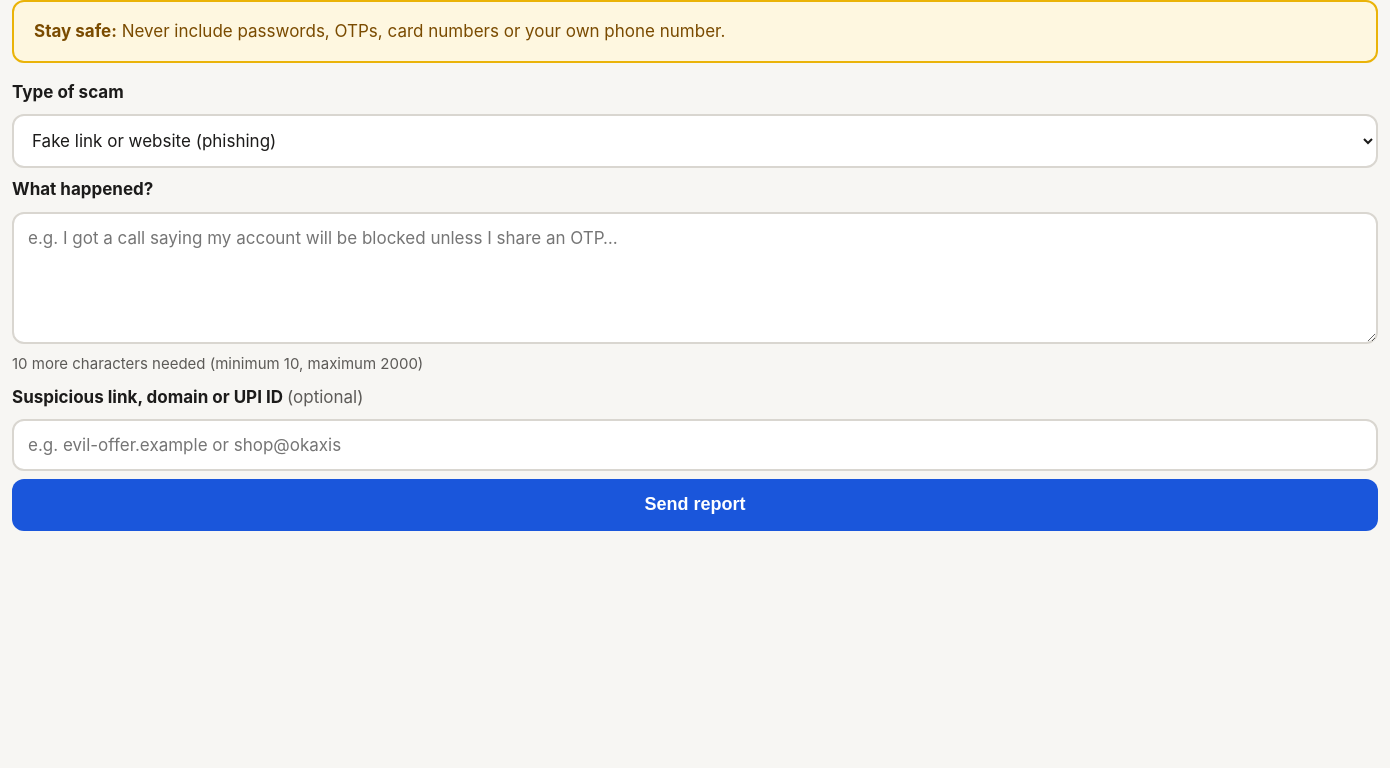
ReportForm validation › shows the backend thanks message and clears the form on success
Replace the text in the text box labelled "What happened?" with "Someone called pretending to be the bank manager today.". click: x=695, y=278
box: [12,212,1378,344]
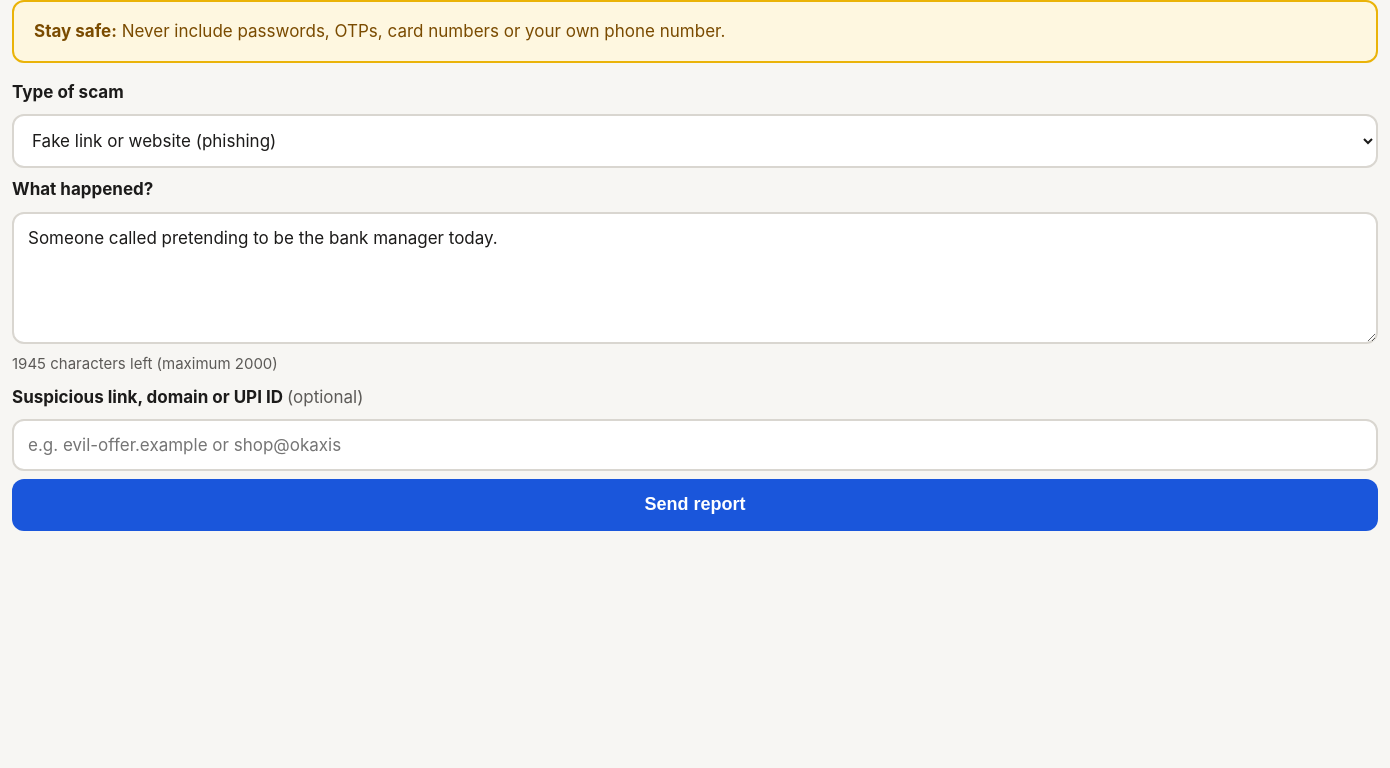
Type "evil-offer.example" into the field labelled "Suspicious link, domain or UPI ID (optional)". click: x=695, y=445
box: [12,419,1378,471]
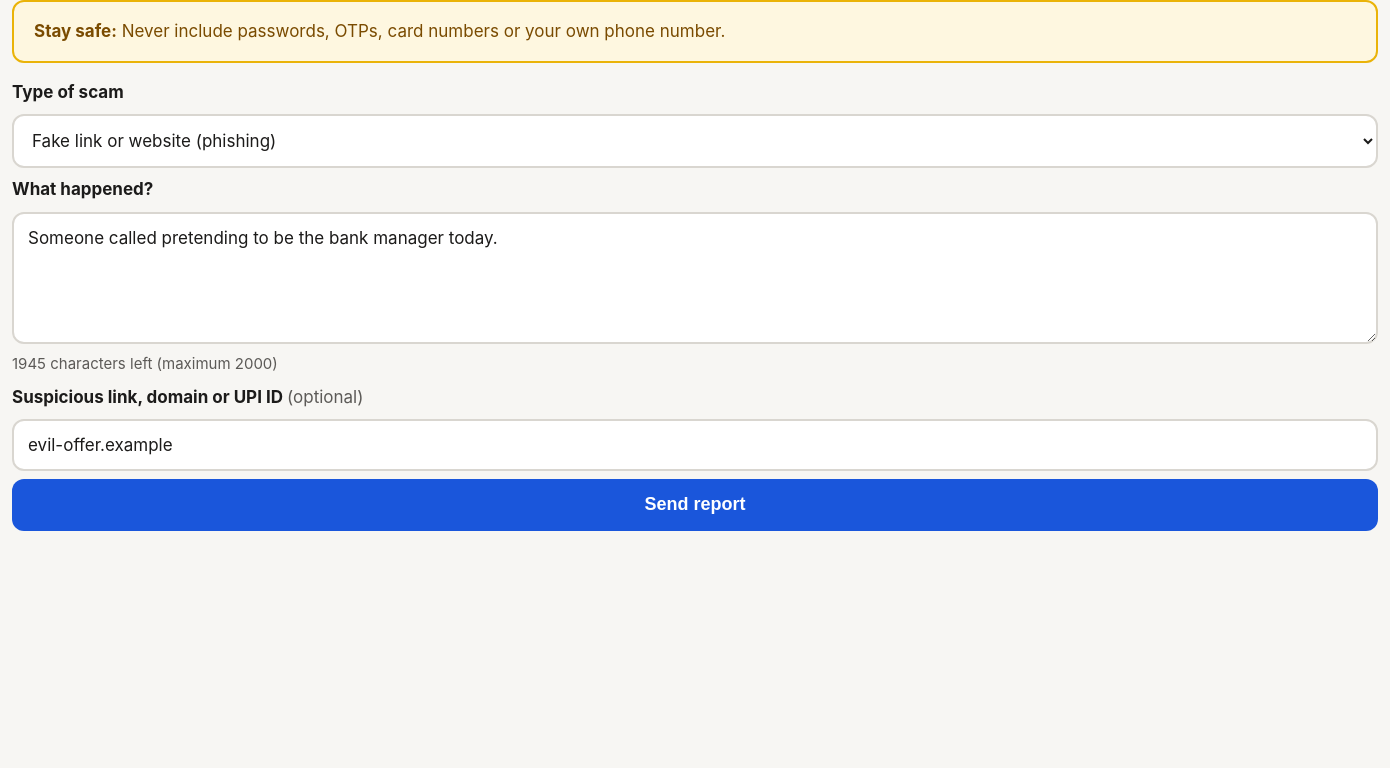
Click the button "Send report". click: x=695, y=505
box: [12,479,1378,531]
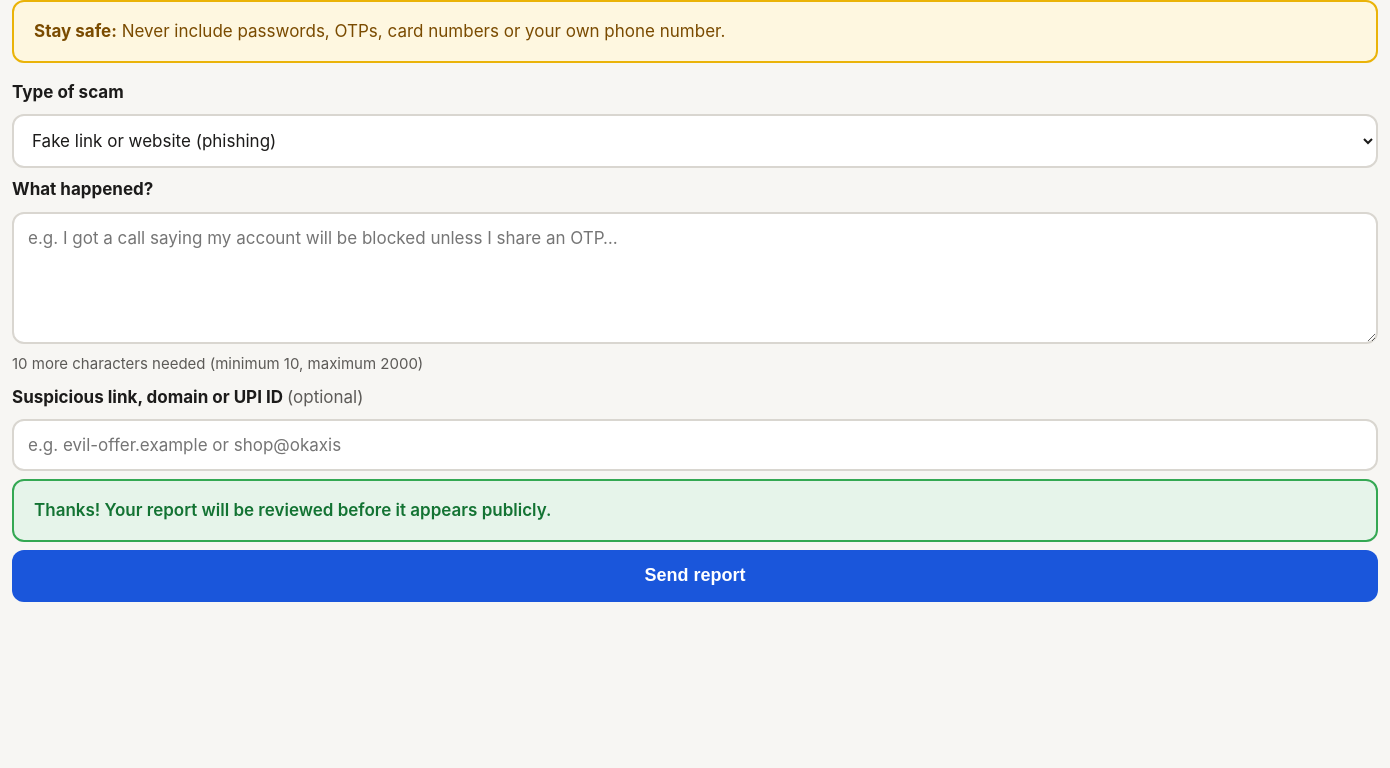
Now the text "Thanks! Your report will be reviewed before it appears publicly." is shown, box [12,479,1378,542]
Now the text box labelled "What happened?" is empty, box [12,212,1378,344]
